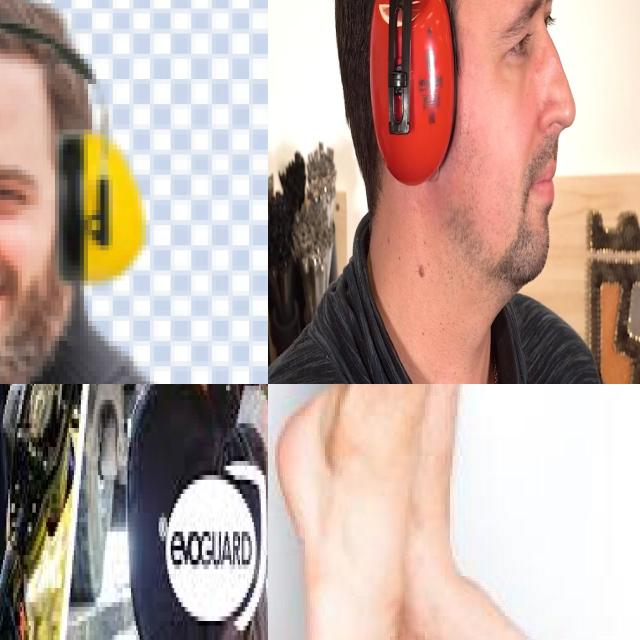Barefoots: (274, 389, 443, 640), (390, 506, 557, 640)
Ear-protection: (0, 7, 162, 293), (359, 0, 464, 211)
No_Glasses: (482, 0, 571, 95)
hand_glove: (0, 588, 29, 640)
person: (313, 0, 599, 384), (101, 384, 268, 640), (0, 384, 56, 640)
